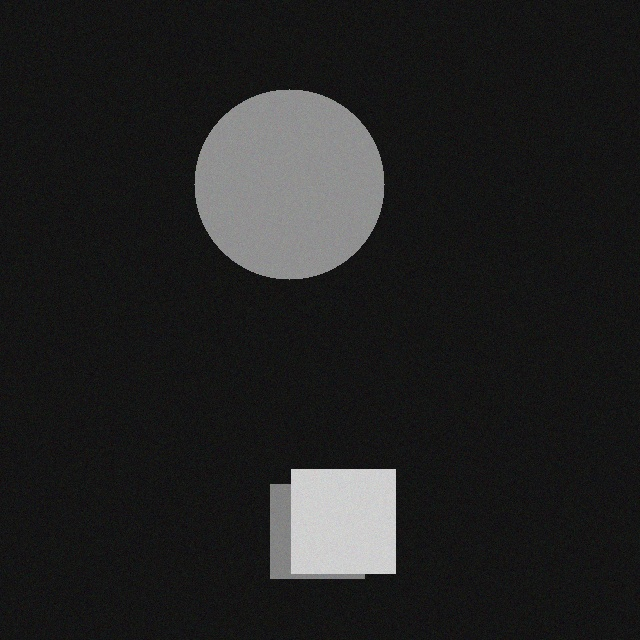circle: (204, 98, 394, 288)
square: (301, 478, 405, 582), (280, 493, 374, 587)
